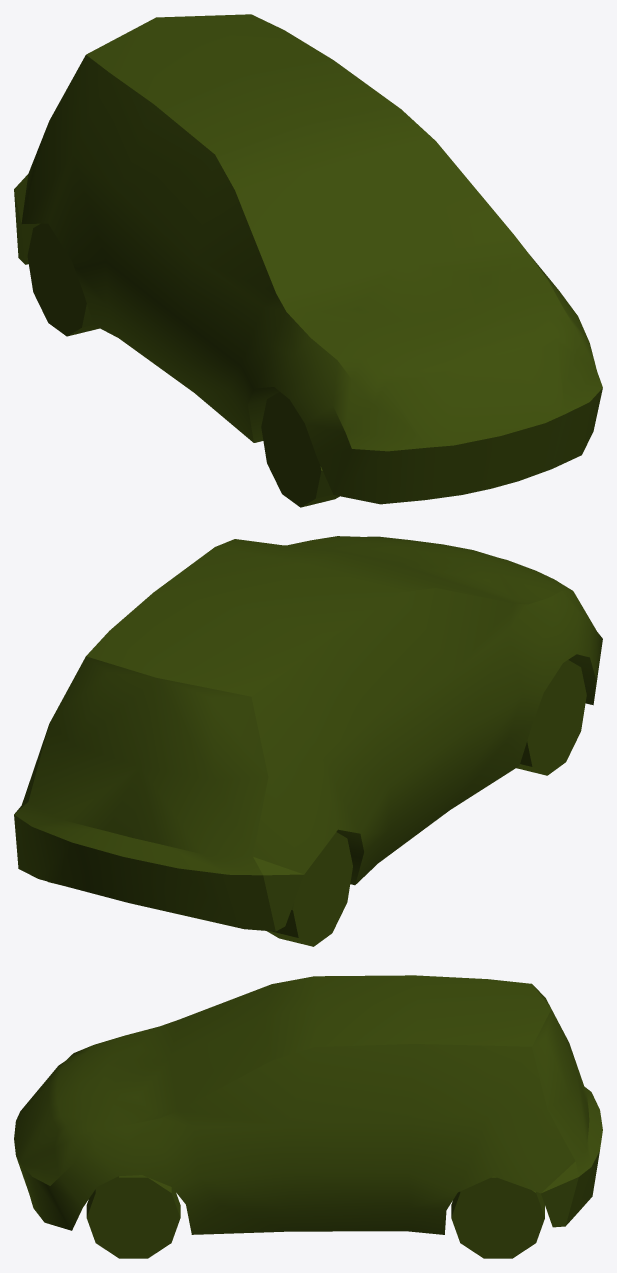
The model's file is Vehicle03B_M.fbx.
3 renders of one model, top to bottom at view 1: azimuth 30°, elevation 25°; view 2: azimuth 150°, elevation 25°; view 3: azimuth 270°, elevation 25°, orthographic. The views are drawn at different scales.
Visible parts, largest first — view 1: Vehicle03B; view 2: Vehicle03B; view 3: Vehicle03B.
Part boxes in pixels (left/top/right/bottom): Vehicle03B: left=14, top=14, right=602, bottom=507; Vehicle03B: left=14, top=536, right=602, bottom=946; Vehicle03B: left=14, top=975, right=602, bottom=1258.
Size of the model in its own units: 1.7 by 1.46 by 3.84.
